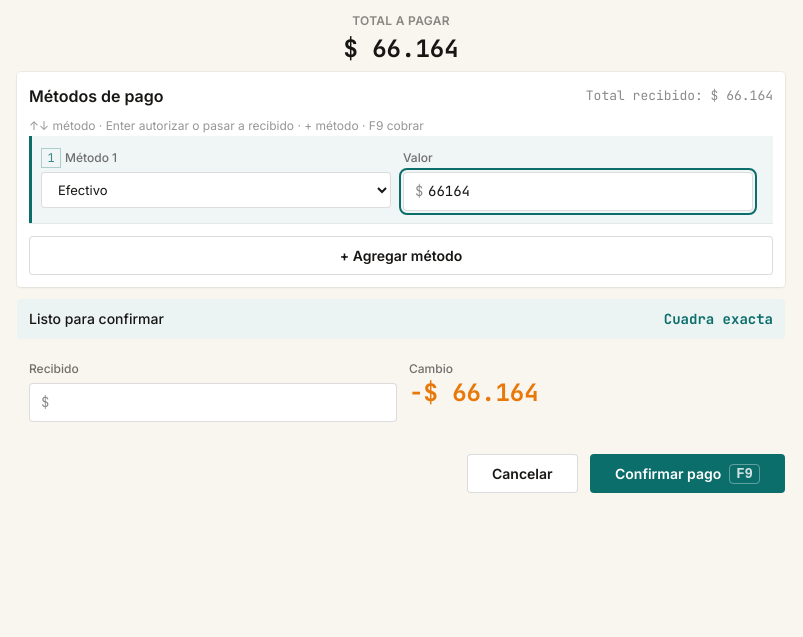
it: PaymentProcessing › shows distinct visual states for pending, approved, and rejected authorizations
Step 1. Replace the text in the number field labelled "Valor" with "40000" → point(578, 191), box x1=403 y1=172 x2=753 y2=211
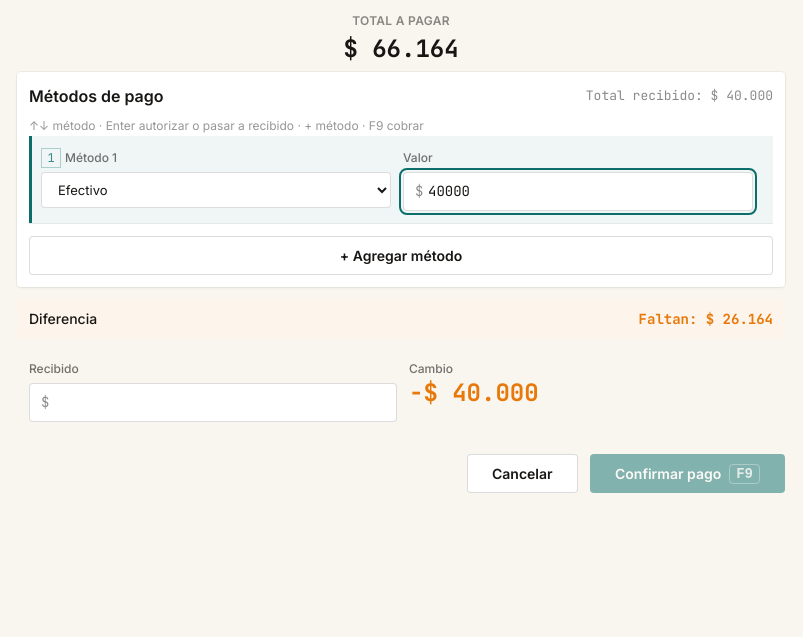
Step 2. Click the button "+ Agregar método" → point(401, 255), box x1=29 y1=236 x2=773 y2=275
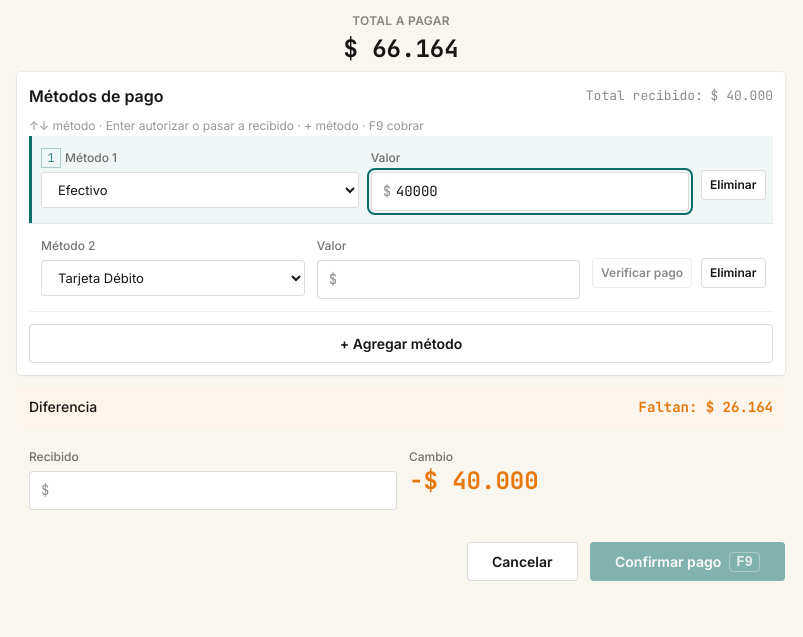
Step 3. Type "26164" into the number field labelled "Valor" below "Método 2" → point(449, 279), box x1=317 y1=260 x2=580 y2=299
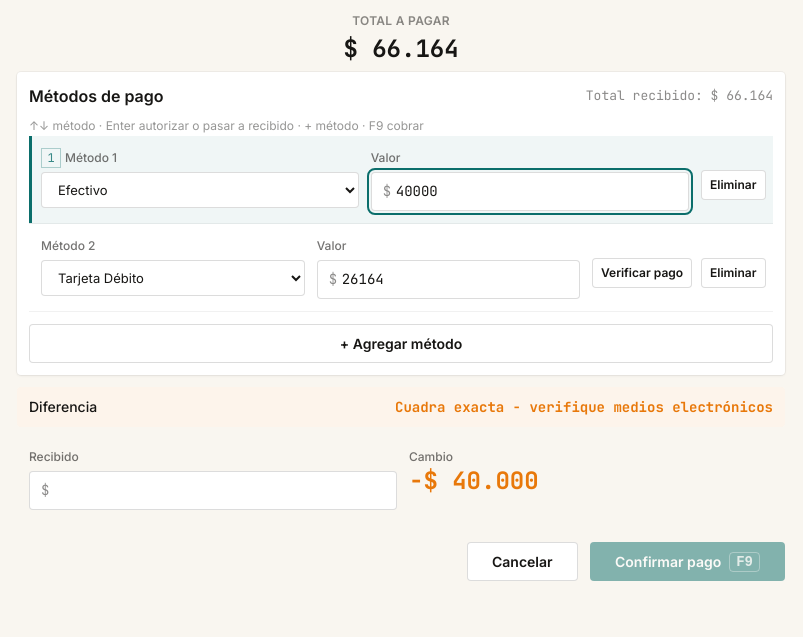
Step 4. Click the button "Verificar pago" → point(642, 273), box x1=592 y1=258 x2=692 y2=288
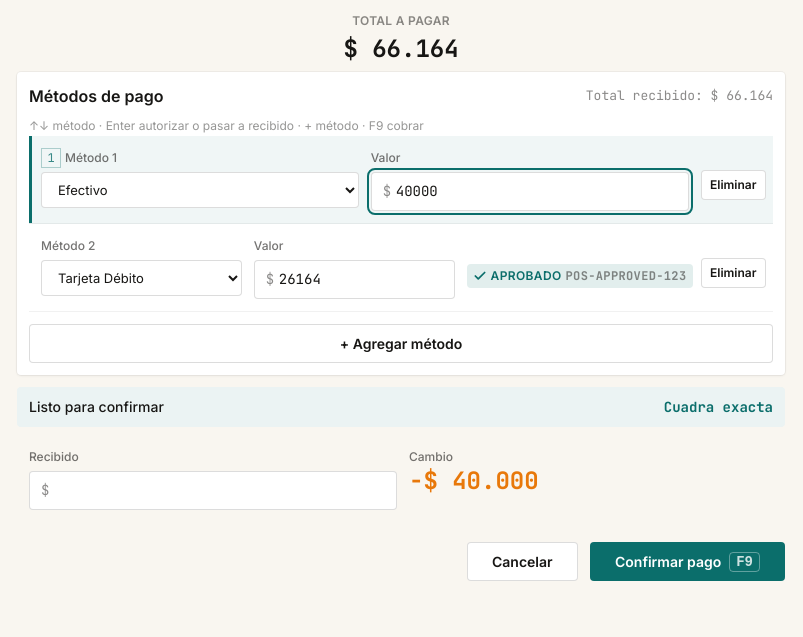
Check: the text "Aprobado POS-APPROVED-123" is shown, box x1=467 y1=264 x2=692 y2=288
Check: the text "POS-APPROVED-123" is shown, box x1=566 y1=266 x2=686 y2=286
// Changing the amount resets the authorization to idle, allowing a retry.
Step 5. Replace the text in the number field labelled "Valor" next to "Aprobado" with "26165" → point(354, 279), box x1=254 y1=260 x2=455 y2=299
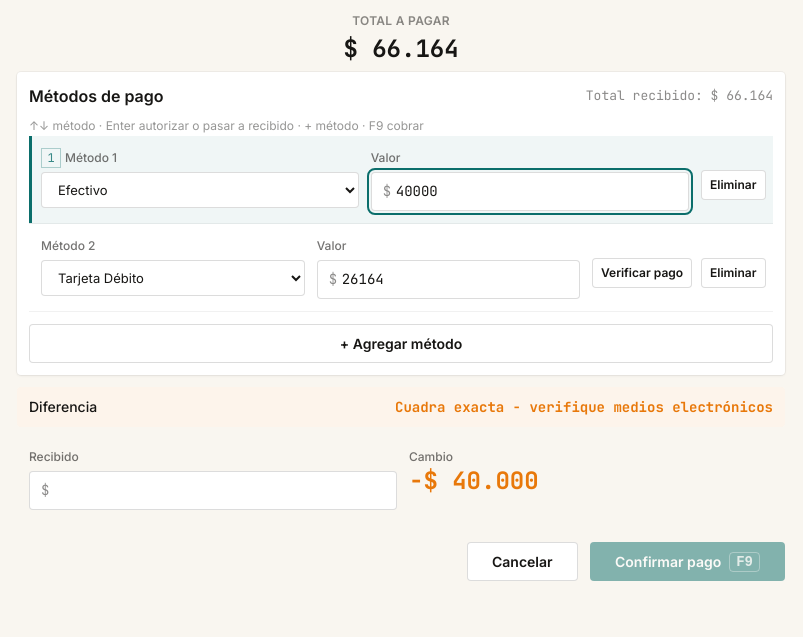
Step 6. Click the button "Verificar pago" → point(642, 273), box x1=592 y1=258 x2=692 y2=288
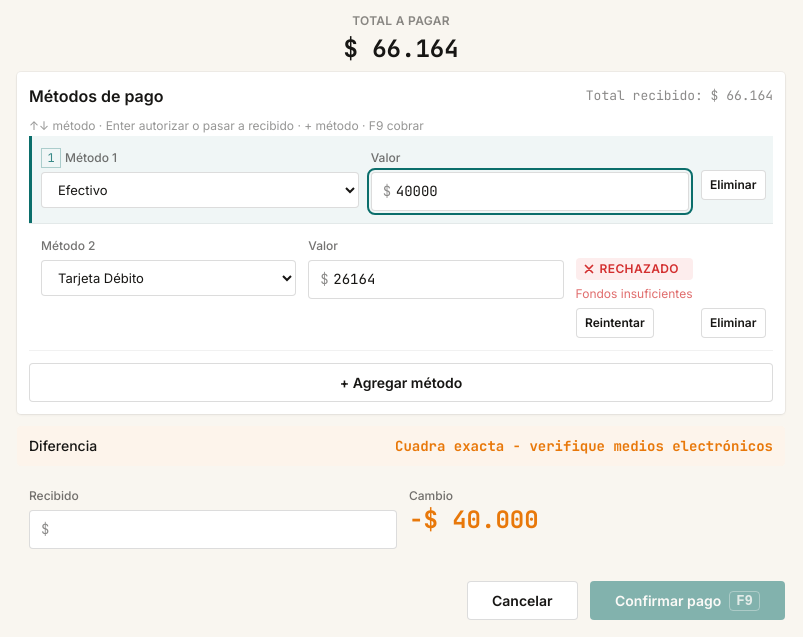
Check: the text "Rechazado" is shown, box x1=576 y1=258 x2=692 y2=280
Check: the text "Fondos insuficientes" is shown, box x1=576 y1=284 x2=692 y2=304
